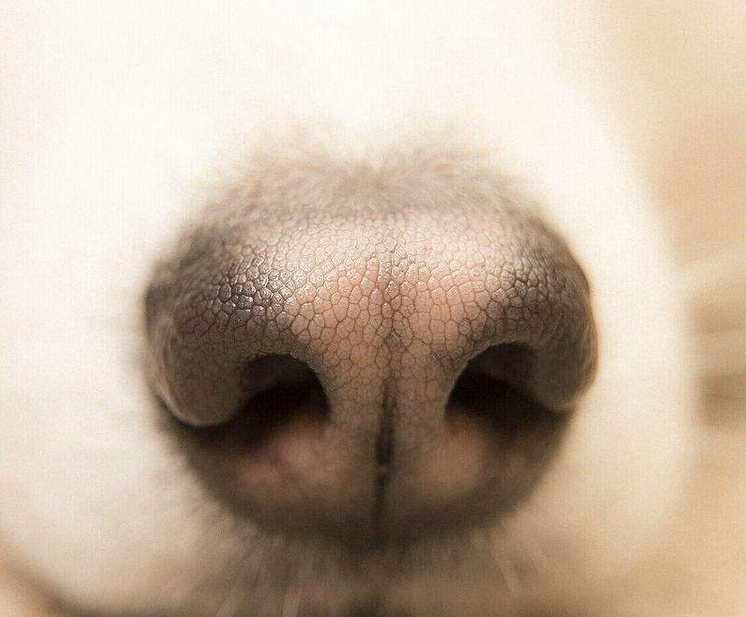nose: (179, 174, 601, 553)
